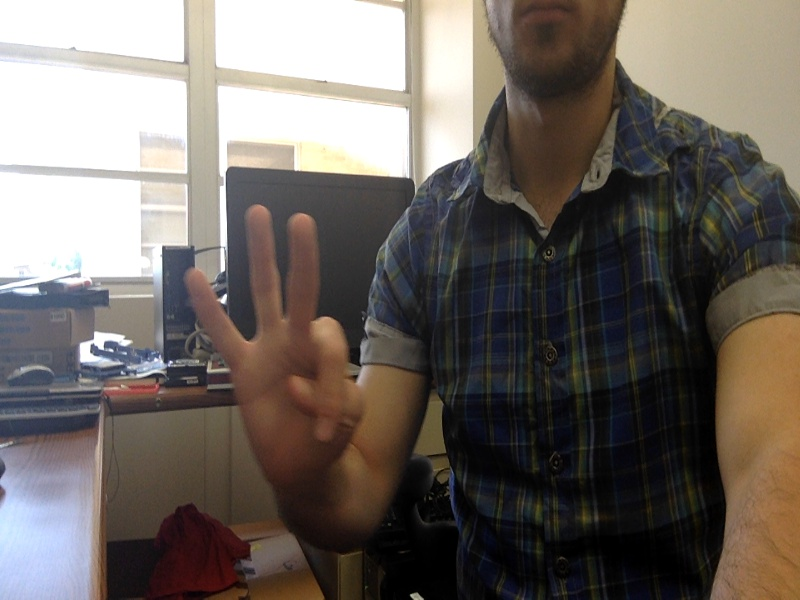3-hand: (186, 205, 365, 496)
